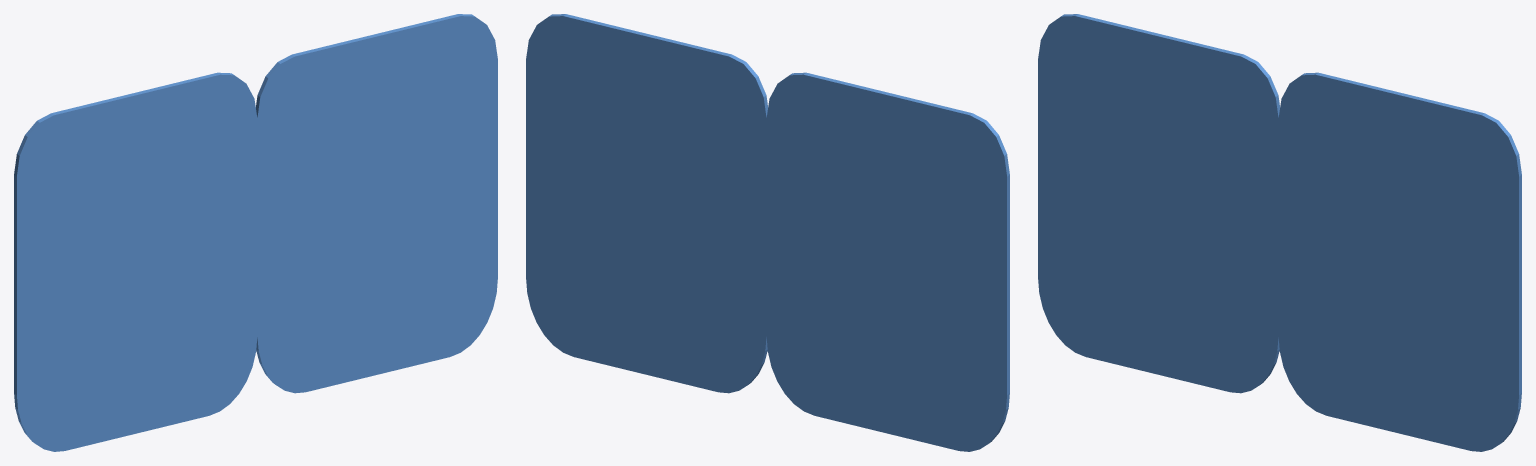
Rendered from padCover.fbx.
The picture shows the model from 3 angles, left to right: view 1: azimuth 30°, elevation 25°; view 2: azimuth 150°, elevation 25°; view 3: azimuth 330°, elevation 25°; orthographic projection.
Parts seen in each view (by area): view 1: ModraPodlaga1.001; view 2: ModraPodlaga1.001; view 3: ModraPodlaga1.001.
Boxes of the visible parts, <box> form: ModraPodlaga1.001: <box>14,14,497,451</box>; ModraPodlaga1.001: <box>526,14,1009,451</box>; ModraPodlaga1.001: <box>1038,14,1521,451</box>.
Bounding box in the file's own units: 320 × 215 × 3.26.
